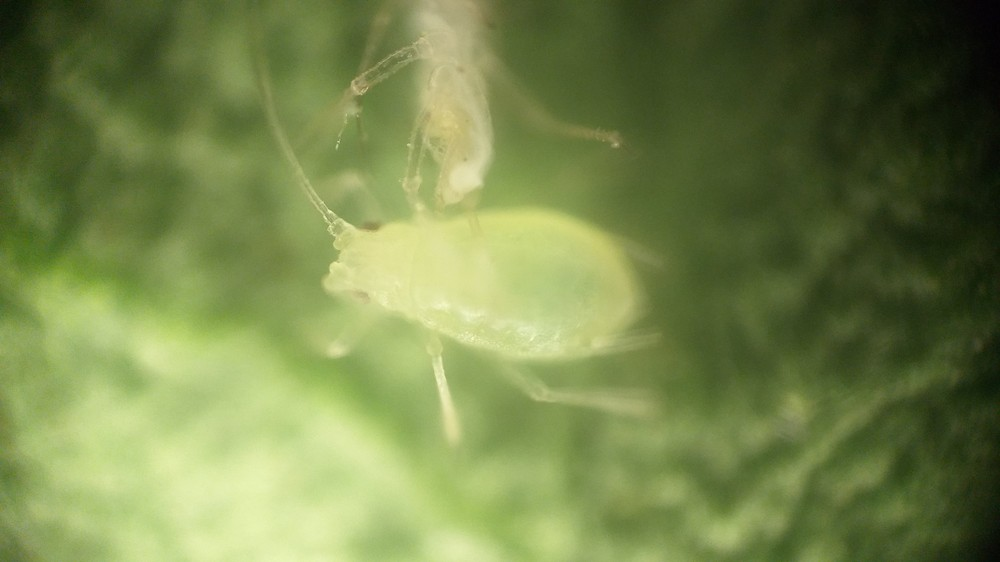Pulgon: (260, 126, 716, 485)
